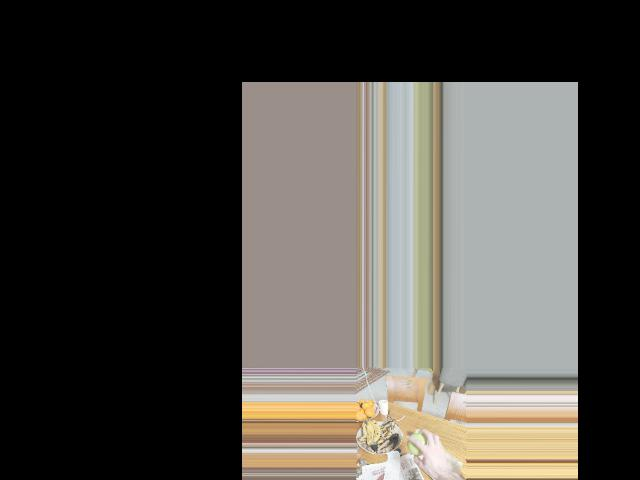apple: (407, 433, 431, 458)
